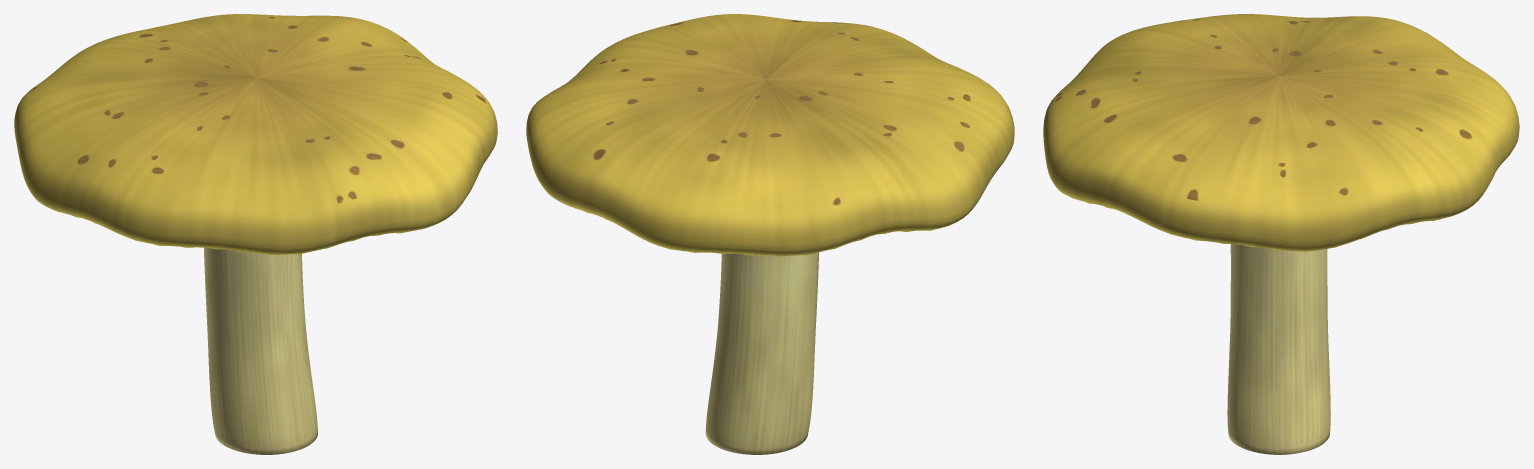
File: tricholoma-equestre-drawn.glb
3 views of the same model, side by side, from view 1: azimuth 30°, elevation 25°; view 2: azimuth 150°, elevation 25°; view 3: azimuth 270°, elevation 25° (orthographic).
Bounding box in the file's own units: 0.8203 × 0.69 × 0.8321.
Materials: 1 (1 with a texture image).
